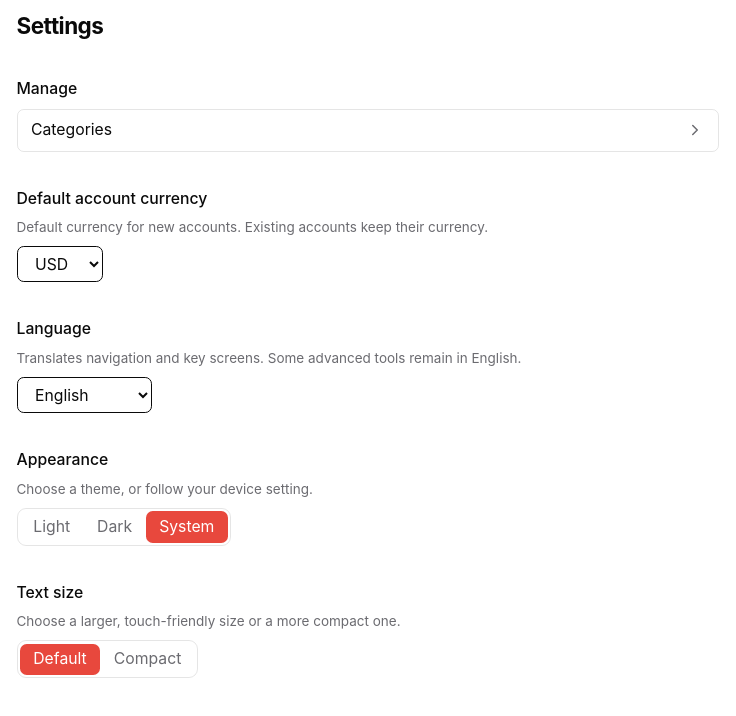
Test: Household -- settings failures › restores the prior base currency when saving fails
Select "EUR" in the dropdown labelled "Default account currency" at (60, 264), box x1=16 y1=246 x2=102 y2=282
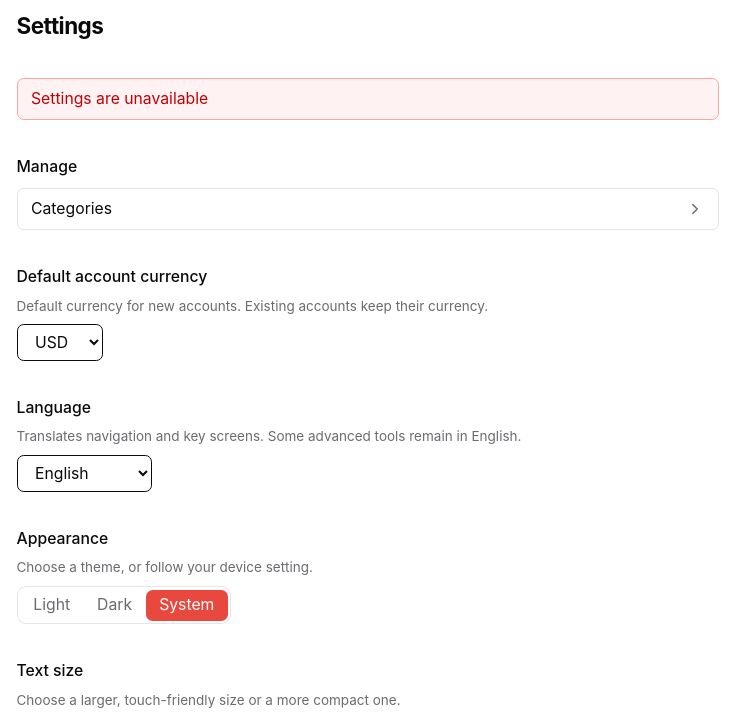
Check: the message reads "Settings are unavailable", box x1=31 y1=88 x2=208 y2=108
